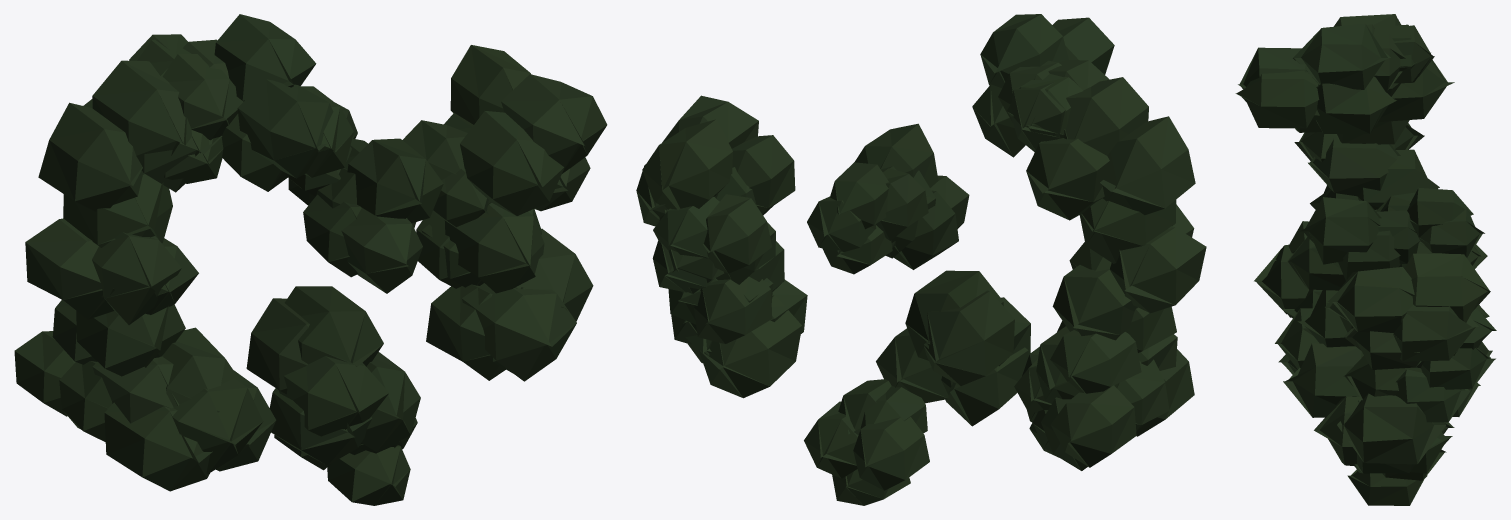
Rendered from tree_m8_far.obj.
3 renders of one model, left to right at view 1: azimuth 30°, elevation 25°; view 2: azimuth 150°, elevation 25°; view 3: azimuth 270°, elevation 25°, orthographic. The views are drawn at different scales.
Size of the model in its own units: 1.86 by 1.69 by 0.9586.
1 material, 1 textured.
